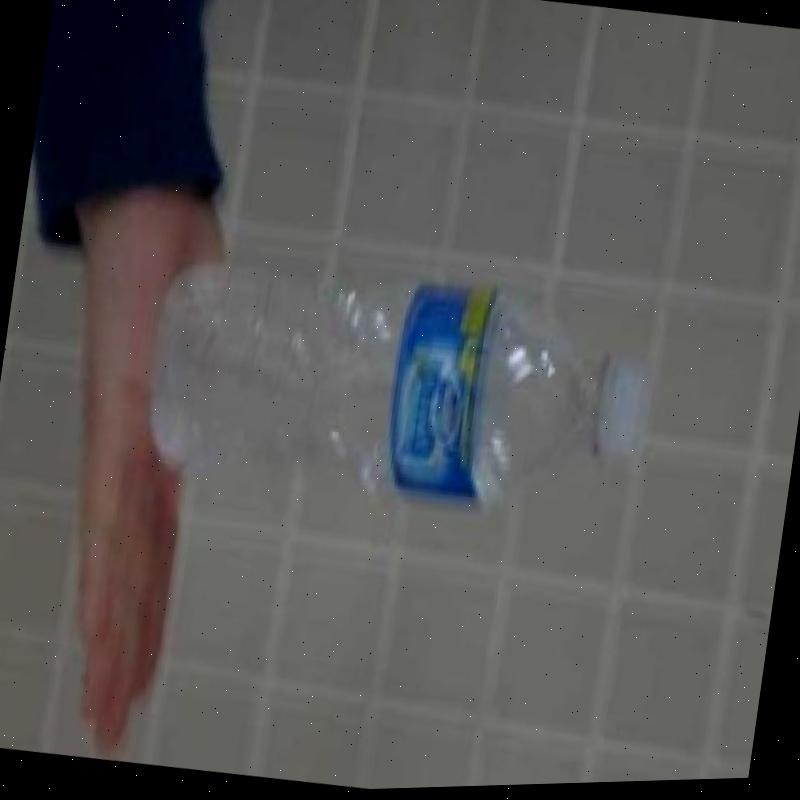botella: (138, 238, 668, 544)
